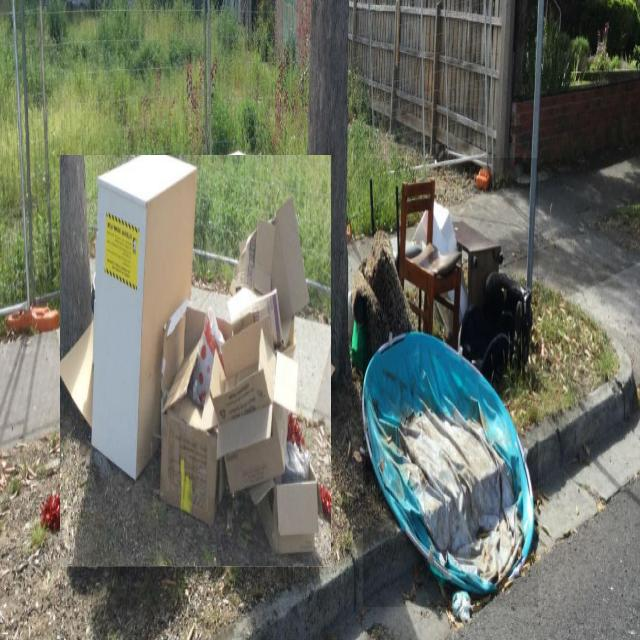dumping: (60, 155, 331, 568), (363, 158, 538, 607)
